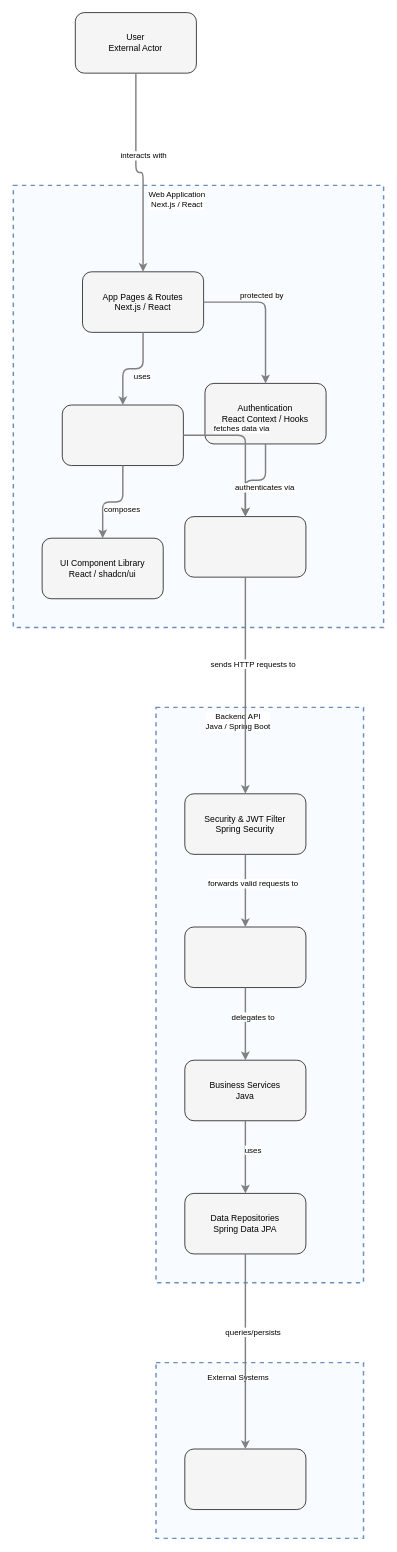
This 397x1552 diagram has some shape labels left out. The shapes that lost their labels are listed below. From the top down, each one's centre as x and y in pixels, then its label:
the point at 122,435: Application Components React / TypeScript
the point at 245,546: API Client TypeScript
the point at 245,957: API Controllers Spring Web
the point at 245,1479: Relational Database PostgreSQL, MySQL, etc.
